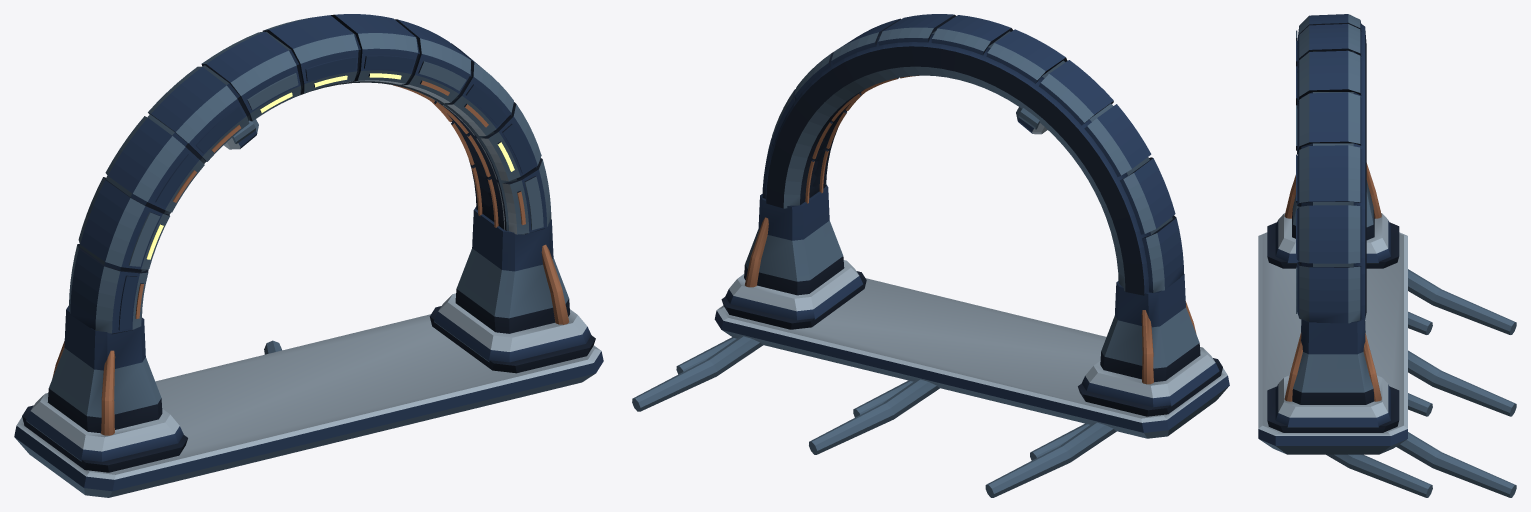
File: transit-gate.glb
3 views of the same model, side by side, from view 1: azimuth 30°, elevation 25°; view 2: azimuth 150°, elevation 25°; view 3: azimuth 270°, elevation 25° (orthographic). The views are drawn at different scales.
Parts seen in each view (by area): view 1: Transfer arch; view 2: Transfer arch; view 3: Transfer arch.
Boxes of the visible parts, x1,y1,x2,y2 form: Transfer arch: (14, 14, 603, 497); Transfer arch: (632, 14, 1229, 497); Transfer arch: (1258, 14, 1516, 497).
Bounding box in the file's own units: 9.87 × 7.44 × 4.93.
